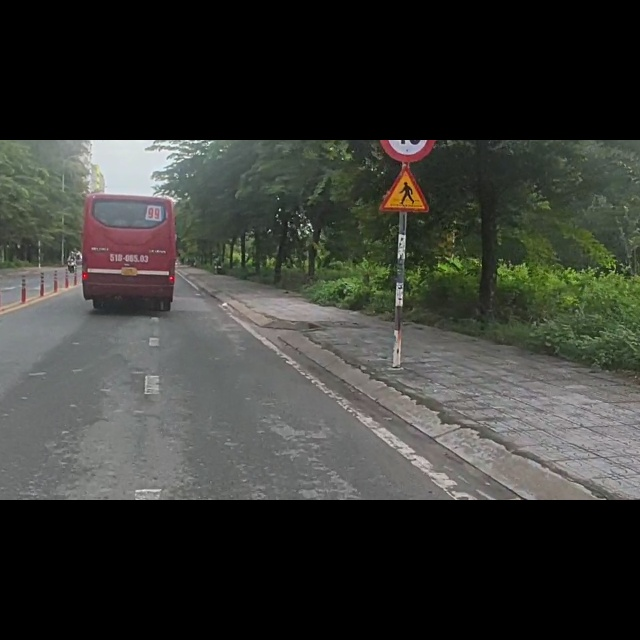bien_nguy_hiem: (378, 49, 435, 124)
